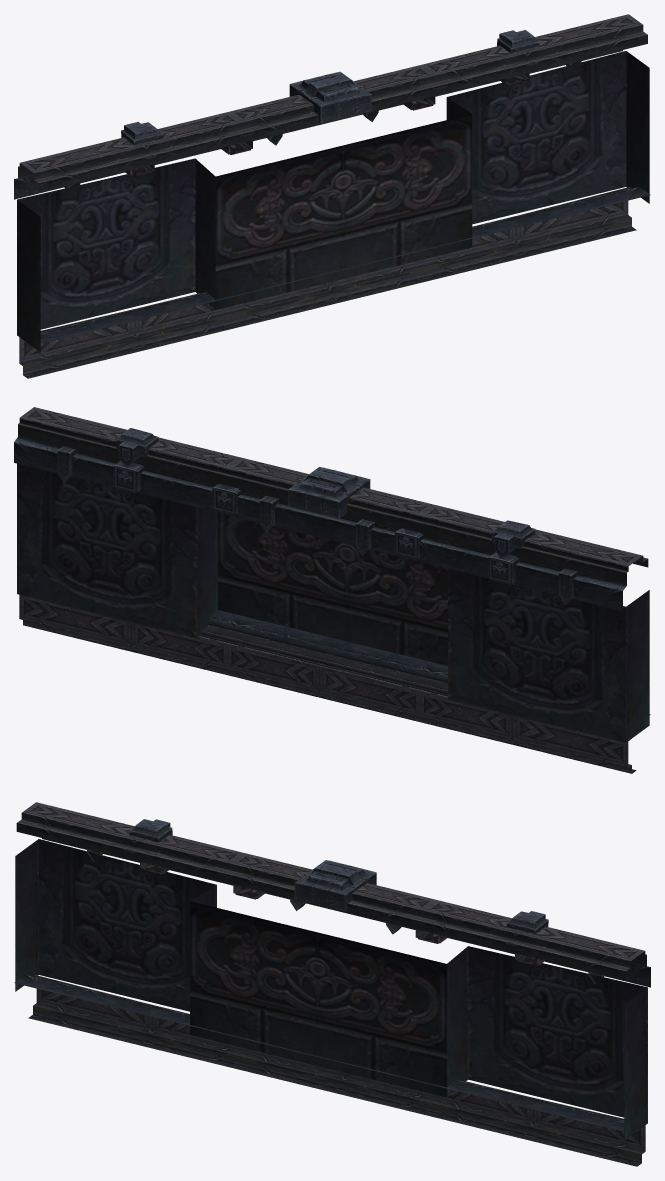
Rendered from milao_xianjieqiao_01.FBX.
3 renders of one model, top to bottom at view 1: azimuth 30°, elevation 25°; view 2: azimuth 150°, elevation 25°; view 3: azimuth 330°, elevation 25°, orthographic.
Parts seen in each view (by area): view 1: milao_xianjieqiao_01; view 2: milao_xianjieqiao_01; view 3: milao_xianjieqiao_01.
Boxes of the visible parts, x1,y1,x2,y2 form: milao_xianjieqiao_01: (14,14,650,378); milao_xianjieqiao_01: (14,407,650,773); milao_xianjieqiao_01: (14,802,650,1166).
Size of the model in its own units: 25.79 by 8.95 by 2.36.
1 material, 1 textured.
